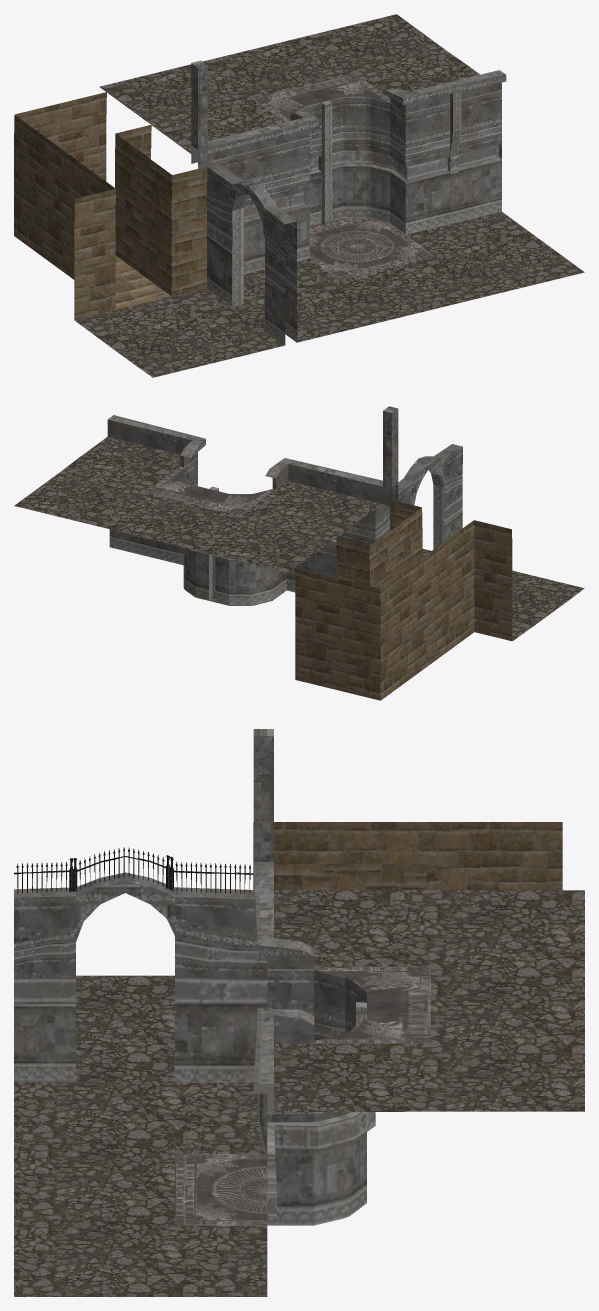
File: environment test.fbx
3 views of the same model, one above another, from view 1: azimuth 30°, elevation 25°; view 2: azimuth 150°, elevation 25°; view 3: azimuth 270°, elevation 25° (orthographic). The views are drawn at different scales.
Visible parts, largest first — view 1: Plane; view 2: Plane; view 3: Plane, Plane.001.
Boxes of the visible parts, <box> form: Plane: <box>14,14,584,377</box>; Plane: <box>14,406,584,700</box>; Plane: <box>14,729,584,1296</box>; Plane.001: <box>14,847,253,894</box>.
Size of the model in its own units: 900 by 442 by 676.
